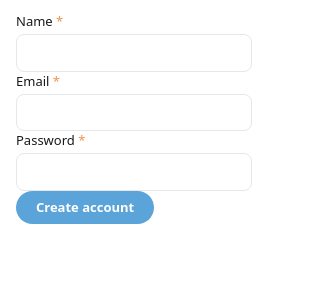
Test: form_submit flow (R6 — registration path) › refuses absolute/external form_submit endpoints before any network activity
Type "Vlad" into the field with class "kw-input" showing "Name *" at point(134, 53), box [16,34,252,72]
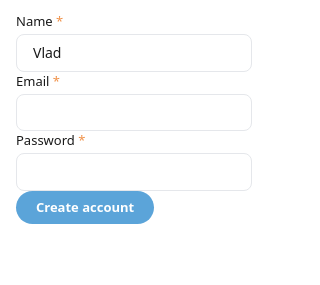
Type "v@k.one" into the field with class "kw-input" showing "Email *" at point(134, 112), box [16,94,252,131]
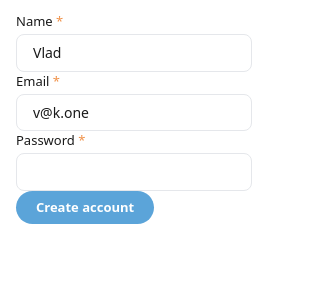
Type "hunter22" into the password field with class "kw-input" showing "Password *" at point(134, 172), box [16,153,252,191]
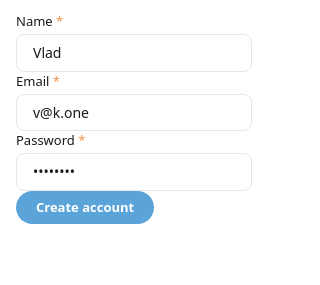
Click the button with class "kw-submit" at point(85, 207), box [16,191,154,224]
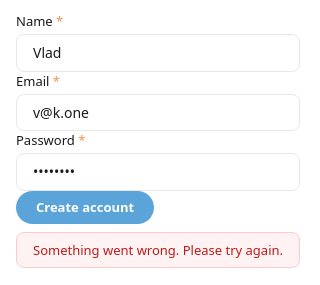
Check: the message "Something went wrong. Please try again." is shown, box [16,232,300,268]
